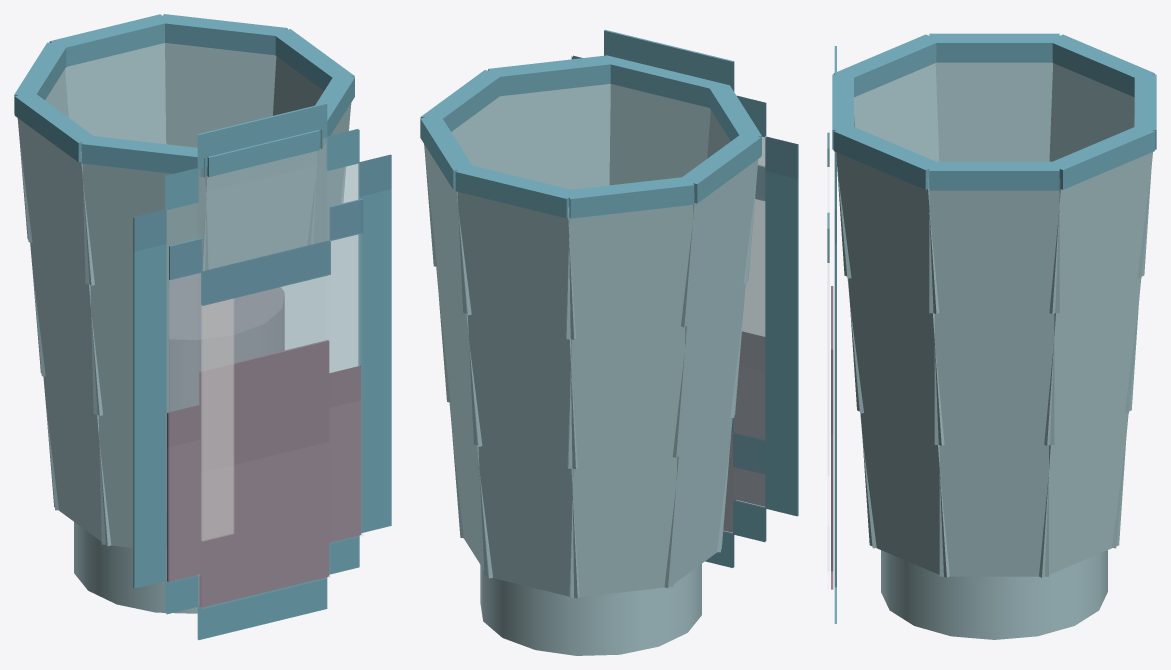
The model's file is CMU3DDrinkGrapeSodaGlass.glb.
3 views of the same model, side by side, from view 1: azimuth 30°, elevation 25°; view 2: azimuth 150°, elevation 25°; view 3: azimuth 270°, elevation 25° (orthographic).
Parts seen in each view (by area): view 1: base original source artwork, overlay original source artwork, fill original source artwork, hollow wall tier 3 facet 7, hollow wall tier 3 facet 2, hollow wall tier 3 facet 6, hollow wall tier 3 facet 3, liquid volume tier 3, hollow wall tier 2 facet 5, hollow wall tier 3 facet 5, hollow wall tier 1 facet 5, hollow wall tier 2 facet 6 (+13 smaller); view 2: base original source artwork, hollow wall tier 2 facet 4, hollow wall tier 3 facet 4, hollow wall tier 1 facet 4, hollow wall tier 3 facet 3, hollow wall tier 2 facet 3, heavy glass foot, hollow wall tier 1 facet 3, hollow wall tier 3 facet 8, hollow wall tier 3 facet 7, hollow wall tier 3 facet 5, hollow wall tier 2 facet 5 (+15 smaller); view 3: hollow wall tier 2 facet 1, hollow wall tier 3 facet 1, hollow wall tier 1 facet 1, heavy glass foot, hollow wall tier 3 facet 5, hollow wall tier 2 facet 8, hollow wall tier 2 facet 2, hollow wall tier 3 facet 2, hollow wall tier 3 facet 8, hollow wall tier 1 facet 8, hollow wall tier 1 facet 2, hollow wall tier 3 facet 4 (+12 smaller).
Boxes of the visible parts, box(x1,y1,x2,y2) form: base original source artwork: box(133, 103, 391, 639); overlay original source artwork: box(169, 198, 363, 608); fill original source artwork: box(167, 340, 361, 607); hollow wall tier 3 facet 7: box(202, 151, 317, 270); hollow wall tier 3 facet 2: box(165, 43, 276, 147); hollow wall tier 3 facet 6: box(82, 163, 208, 290); hollow wall tier 3 facet 3: box(65, 43, 166, 144); liquid volume tier 3: box(169, 273, 284, 408); hollow wall tier 2 facet 5: box(30, 242, 102, 415); hollow wall tier 3 facet 5: box(17, 118, 94, 285); hollow wall tier 1 facet 5: box(43, 376, 111, 546); hollow wall tier 2 facet 6: box(90, 283, 168, 418); base original source artwork: box(571, 29, 798, 567); hollow wall tier 2 facet 4: box(567, 324, 685, 468); hollow wall tier 3 facet 4: box(565, 205, 693, 339); hollow wall tier 1 facet 4: box(569, 455, 677, 598); hollow wall tier 3 facet 3: box(457, 192, 576, 339); hollow wall tier 2 facet 3: box(467, 313, 577, 469); heavy glass foot: box(480, 564, 701, 655); hollow wall tier 1 facet 3: box(478, 444, 579, 598); hollow wall tier 3 facet 8: box(499, 84, 610, 189); hollow wall tier 3 facet 7: box(609, 84, 710, 185); hollow wall tier 3 facet 5: box(681, 159, 758, 327); hollow wall tier 2 facet 5: box(672, 283, 745, 457); hollow wall tier 2 facet 1: box(934, 311, 1054, 444); hollow wall tier 3 facet 1: box(929, 190, 1059, 313); hollow wall tier 1 facet 1: box(939, 443, 1048, 576); heavy glass foot: box(881, 550, 1107, 639); hollow wall tier 3 facet 5: box(935, 62, 1052, 161); hollow wall tier 2 facet 8: box(848, 276, 944, 445); hollow wall tier 2 facet 2: box(1044, 278, 1140, 445); hollow wall tier 3 facet 2: box(1049, 152, 1152, 314); hollow wall tier 3 facet 8: box(836, 152, 939, 314); hollow wall tier 1 facet 8: box(861, 411, 949, 577); hollow wall tier 1 facet 2: box(1039, 413, 1127, 577); hollow wall tier 3 facet 4: box(1049, 63, 1134, 161).
Size of what is drawn, in the model's own units: 0.268 by 0.4688 by 0.272.
Materials: 6 (3 with a texture image).
